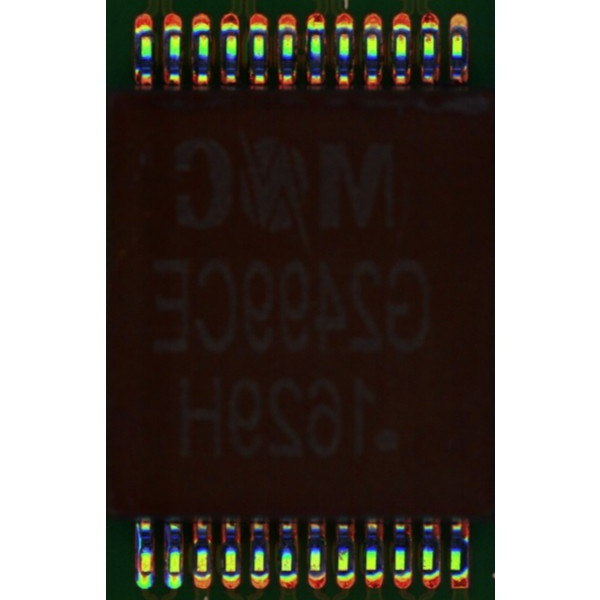Bad_podu: (141, 566, 149, 580)
Bad_qiaojiao: (135, 522, 141, 572)
